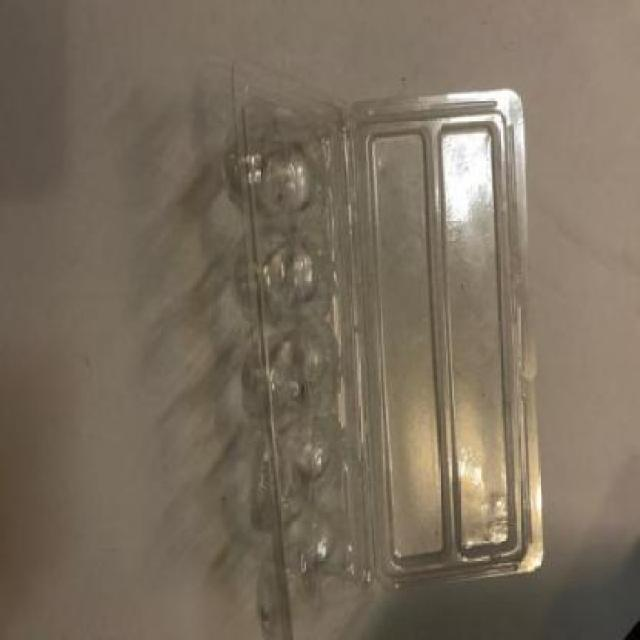PLASTIC: (228, 59, 548, 638), (348, 83, 544, 599)
